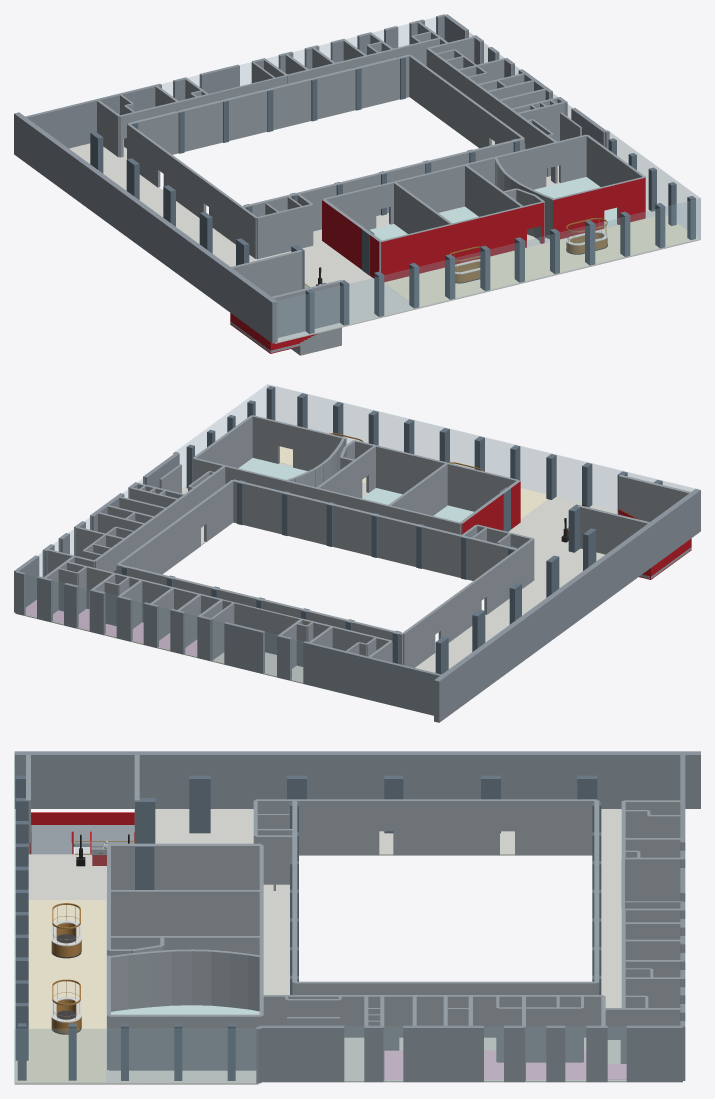
File: floor03.glb
3 views of the same model, one above another, from view 1: azimuth 30°, elevation 25°; view 2: azimuth 150°, elevation 25°; view 3: azimuth 270°, elevation 25° (orthographic). The views are drawn at different scales.
Parts seen in each view (by area): view 1: Arch_F3_verified_outer_south_end__web, Arch_F3_verified_outer_west_end__web, Arch_F3_verified_hall_north_end__web, Arch_Room_F3_verified_Networking_bar__web, Arch_F3_verified_cinemas_south_end__web, Arch_F3_verified_hall_east_00__web, Arch_F3_verified_cinemas_north_end__web, Arch_F3_verified_hall_south_end__web, Arch_F3_verified_outer_north_00__web, Arch_F3_verified_main_stair_south_end__web, Arch_F3_verified_lift_south_end__web, Arch_F3_verified_cinema2_west_end__web (+25 smaller); view 2: Arch_F3_verified_outer_west_end__web, Arch_F3_verified_hall_south_end__web, Arch_F3_verified_outer_south_end__web, Arch_F3_verified_outer_north_00__web, Arch_F3_verified_cinemas_south_end__web, Arch_F3_verified_hall_north_end__web, Arch_F3_verified_hall_east_00__web, Arch_F3_verified_main_stair_south_end__web, Arch_Floor_F3_verified_02__web, Arch_F3_verified_main_stair_north_end__web, Arch_F3_verified_outer_north_02__web, Arch_Floor_F3_verified_04__web (+45 smaller); view 3: Arch_F3_verified_outer_west_end__web, Arch_F3_verified_outer_east_south_end__web, Arch_Room_F3_verified_Networking_bar__web, Arch_F3_verified_cinema4_east_end__web, Arch_F3_verified_cinema2_3_shared_end__web, Arch_F3_verified_cinema2_west_end__web, Arch_F3_verified_hall_west_01__web, Arch_F3_verified_outer_east_north_end__web, Arch_F3_verified_outer_east_north_04__web, Arch_Floor_F3_verified_04__web, Arch_F3_verified_hall_west_end__web, Arch_Floor_F3_verified_00__web (+64 smaller).
Boxes of the visible parts, bbox=[...] form: Arch_F3_verified_outer_south_end__web: bbox=[275, 198, 700, 342]; Arch_F3_verified_outer_west_end__web: bbox=[14, 112, 277, 343]; Arch_F3_verified_hall_north_end__web: bbox=[127, 54, 410, 154]; Arch_Room_F3_verified_Networking_bar__web: bbox=[384, 215, 697, 306]; Arch_F3_verified_cinemas_south_end__web: bbox=[381, 206, 523, 282]; Arch_F3_verified_hall_east_00__web: bbox=[409, 55, 491, 148]; Arch_F3_verified_cinemas_north_end__web: bbox=[414, 147, 536, 212]; Arch_F3_verified_hall_south_end__web: bbox=[241, 138, 524, 231]; Arch_F3_verified_outer_north_00__web: bbox=[25, 83, 161, 148]; Arch_F3_verified_main_stair_south_end__web: bbox=[272, 280, 342, 337]; Arch_F3_verified_lift_south_end__web: bbox=[256, 204, 312, 259]; Arch_F3_verified_cinema2_west_end__web: bbox=[322, 199, 382, 278]; Arch_F3_verified_outer_west_end__web: bbox=[434, 489, 700, 722]; Arch_F3_verified_hall_south_end__web: bbox=[232, 479, 518, 580]; Arch_F3_verified_outer_south_end__web: bbox=[267, 384, 694, 510]; Arch_F3_verified_outer_north_00__web: bbox=[303, 641, 441, 715]; Arch_F3_verified_cinemas_south_end__web: bbox=[376, 445, 519, 511]; Arch_F3_verified_hall_north_end__web: bbox=[117, 564, 403, 664]; Arch_F3_verified_hall_east_00__web: bbox=[116, 504, 200, 574]; Arch_F3_verified_main_stair_south_end__web: bbox=[618, 474, 690, 521]; Arch_Floor_F3_verified_02__web: bbox=[415, 592, 545, 672]; Arch_F3_verified_main_stair_north_end__web: bbox=[577, 505, 649, 554]; Arch_F3_verified_outer_north_02__web: bbox=[224, 622, 264, 673]; Arch_Floor_F3_verified_04__web: bbox=[182, 485, 604, 587]; Arch_F3_verified_outer_west_end__web: bbox=[14, 751, 700, 808]; Arch_F3_verified_outer_east_south_end__web: bbox=[15, 1029, 257, 1082]; Arch_Room_F3_verified_Networking_bar__web: bbox=[16, 900, 105, 1081]; Arch_F3_verified_cinema4_east_end__web: bbox=[109, 1014, 261, 1070]; Arch_F3_verified_cinema2_3_shared_end__web: bbox=[109, 890, 261, 935]; Arch_F3_verified_cinema2_west_end__web: bbox=[109, 843, 261, 889]; Arch_F3_verified_hall_west_01__web: bbox=[393, 799, 499, 855]; Arch_F3_verified_outer_east_north_end__web: bbox=[258, 1025, 344, 1082]; Arch_F3_verified_outer_east_north_04__web: bbox=[403, 1025, 483, 1082]; Arch_Floor_F3_verified_04__web: bbox=[137, 809, 258, 1084]; Arch_F3_verified_hall_west_end__web: bbox=[295, 799, 379, 855]; Arch_Floor_F3_verified_00__web: bbox=[601, 809, 626, 1082].
Bounding box in the file's own units: 54.88 × 8.28 × 57.37.
